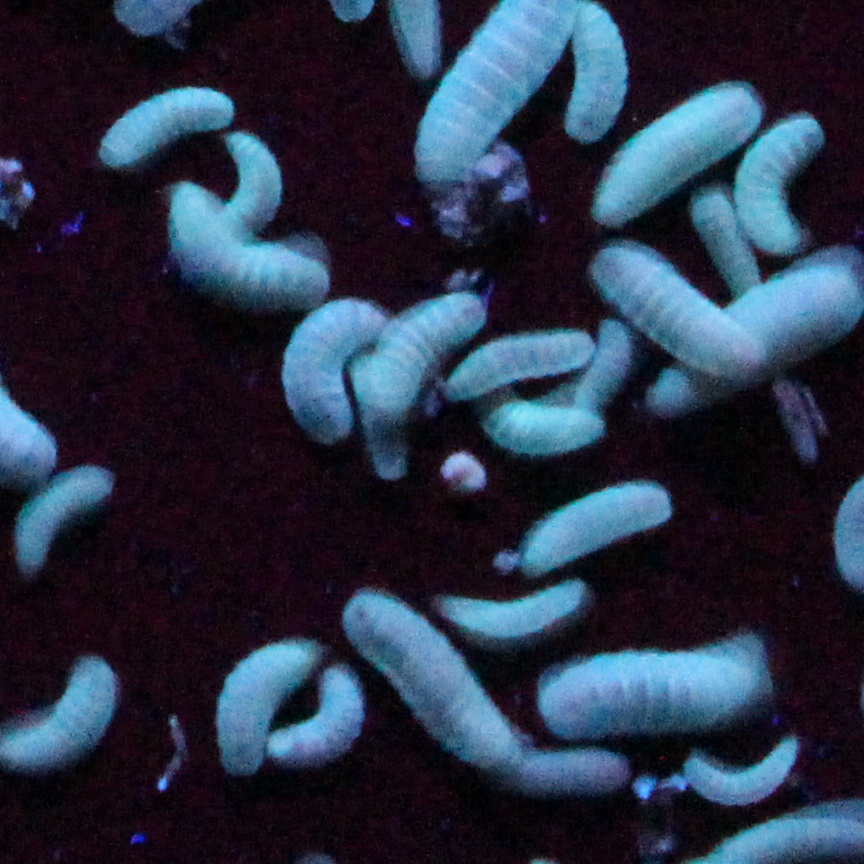larve: (330, 605, 533, 765), (653, 250, 855, 402), (581, 85, 738, 228), (598, 248, 764, 382), (161, 190, 333, 302), (542, 656, 766, 732), (358, 293, 470, 430), (213, 636, 315, 779), (527, 476, 684, 562), (287, 302, 370, 442), (98, 88, 238, 165), (15, 468, 115, 573), (269, 670, 369, 768), (753, 119, 824, 245), (567, 5, 630, 142), (441, 336, 587, 393), (435, 588, 592, 633), (674, 742, 801, 797), (507, 756, 632, 802), (487, 410, 604, 453)
